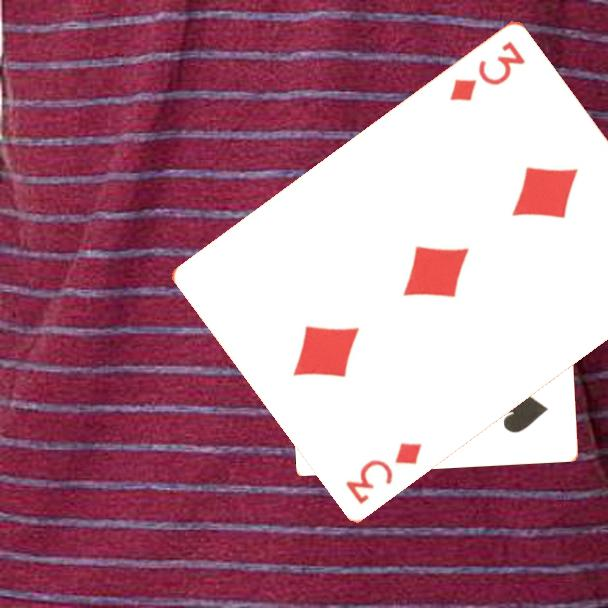d03: (342, 438, 425, 507), (446, 37, 529, 104)
